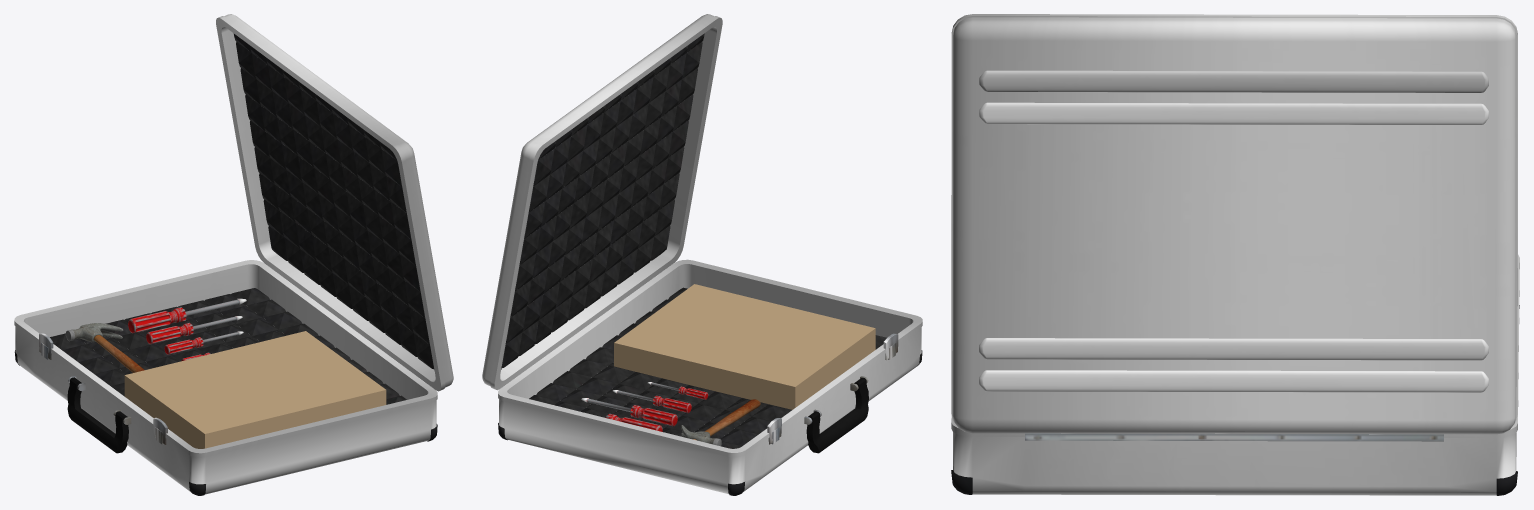
Rendered from assistenzatecnica2.gltf.
3 views of the same model, side by side, from view 1: azimuth 30°, elevation 25°; view 2: azimuth 150°, elevation 25°; view 3: azimuth 270°, elevation 25° (orthographic). The views are drawn at different scales.
Parts seen in each view (by area): view 1: Assistenza Tecnica Valigetta Bassa; view 2: Assistenza Tecnica Valigetta Bassa; view 3: Assistenza Tecnica Valigetta Bassa.
Part boxes in pixels (bbox=[...]): Assistenza Tecnica Valigetta Bassa: bbox=[14, 14, 453, 495]; Assistenza Tecnica Valigetta Bassa: bbox=[482, 14, 922, 495]; Assistenza Tecnica Valigetta Bassa: bbox=[951, 14, 1519, 495].
Bounding box in the file's own units: 0.2923 × 0.3223 × 0.349.
Materials: 4 (4 with a texture image).
